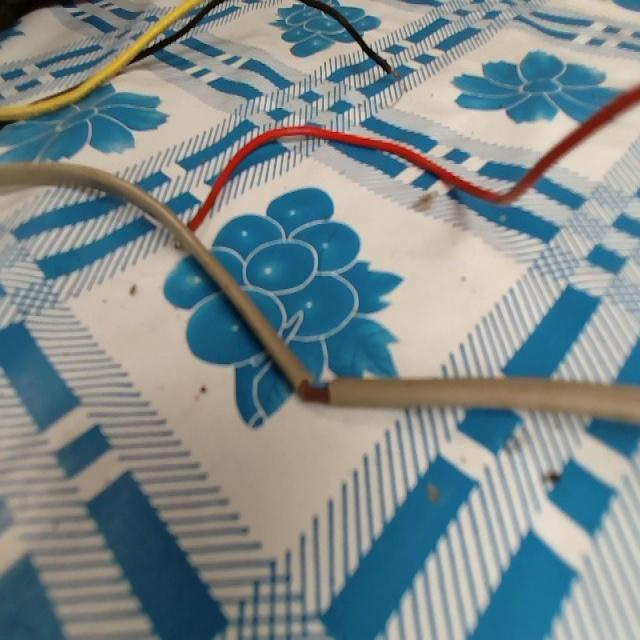-: (292, 366, 337, 410), (383, 60, 409, 89)
